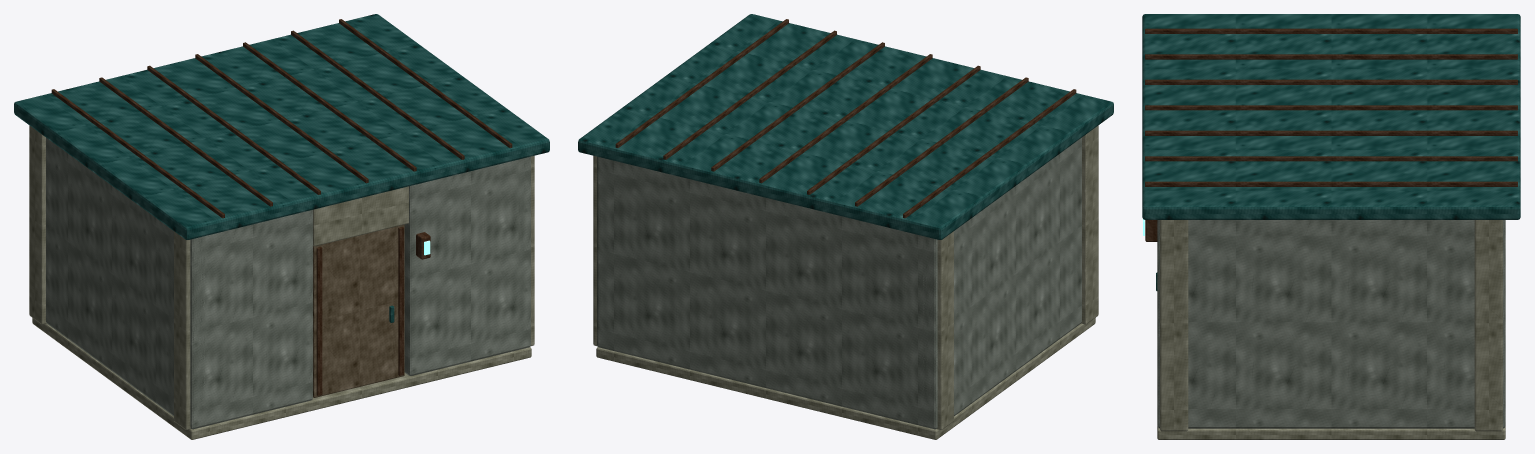
3 views of the same model, side by side, from view 1: azimuth 30°, elevation 25°; view 2: azimuth 150°, elevation 25°; view 3: azimuth 270°, elevation 25° (orthographic). The views are drawn at different scales.
Parts seen in each view (by area): view 1: Roof, WestWall, SouthWall.001, SouthWall, Door, Floor, SouthWall lintel, WestPier, WestPier.001, Roof standing seam.001, Roof standing seam.004, Roof standing seam.005 (+8 smaller); view 2: NorthWall, Roof, WestWall, Floor, WestPier.001, WestPier, Roof standing seam.001, Roof standing seam.004, Roof standing seam.005, Roof standing seam.002, Roof standing seam.003, Roof standing seam (+2 smaller); view 3: Roof, EastWall, EastPier, EastPier.001, Floor, Roof standing seam.001, Roof standing seam.002, Roof standing seam.003, Roof standing seam.004, Roof standing seam.005, Roof standing seam.006, Roof standing seam (+2 smaller).
Boxes of the visible parts, x1=… form: Roof: x1=14, y1=14, x2=549, y2=239; WestWall: x1=46, y1=137, x2=205, y2=429; SouthWall.001: x1=404, y1=156, x2=530, y2=375; SouthWall: x1=190, y1=210, x2=312, y2=429; Door: x1=313, y1=224, x2=404, y2=397; Floor: x1=32, y1=318, x2=531, y2=439; SouthWall lintel: x1=313, y1=186, x2=408, y2=246; WestPier: x1=174, y1=231, x2=190, y2=429; WestPier.001: x1=29, y1=125, x2=46, y2=324; Roof standing seam.001: x1=99, y1=77, x2=272, y2=206; Roof standing seam.004: x1=243, y1=42, x2=416, y2=171; Roof standing seam.005: x1=291, y1=30, x2=464, y2=159; NorthWall: x1=597, y1=156, x2=937, y2=429; Roof: x1=578, y1=14, x2=1113, y2=239; WestWall: x1=922, y1=137, x2=1081, y2=429; Floor: x1=596, y1=318, x2=1095, y2=439; WestPier.001: x1=937, y1=231, x2=953, y2=429; WestPier: x1=1081, y1=125, x2=1098, y2=324; Roof standing seam.001: x1=855, y1=77, x2=1028, y2=206; Roof standing seam.004: x1=711, y1=42, x2=884, y2=171; Roof standing seam.005: x1=663, y1=30, x2=836, y2=159; Roof standing seam.002: x1=807, y1=65, x2=980, y2=194; Roof standing seam.003: x1=759, y1=54, x2=932, y2=183; Roof standing seam: x1=903, y1=89, x2=1076, y2=218; Roof: x1=1142, y1=14, x2=1520, y2=219; EastWall: x1=1158, y1=220, x2=1504, y2=428; EastPier: x1=1160, y1=220, x2=1188, y2=431; EastPier.001: x1=1474, y1=220, x2=1502, y2=431; Floor: x1=1157, y1=426, x2=1505, y2=439; Roof standing seam.001: x1=1145, y1=54, x2=1517, y2=59; Roof standing seam.002: x1=1145, y1=79, x2=1517, y2=84; Roof standing seam.003: x1=1145, y1=105, x2=1517, y2=110; Roof standing seam.004: x1=1145, y1=130, x2=1517, y2=135; Roof standing seam.005: x1=1145, y1=156, x2=1517, y2=161; Roof standing seam.006: x1=1145, y1=181, x2=1517, y2=186; Roof standing seam: x1=1145, y1=28, x2=1517, y2=33.
Size of the model in its own units: 6.85 by 4.03 by 5.65.
Materials: 6 (5 with a texture image).
